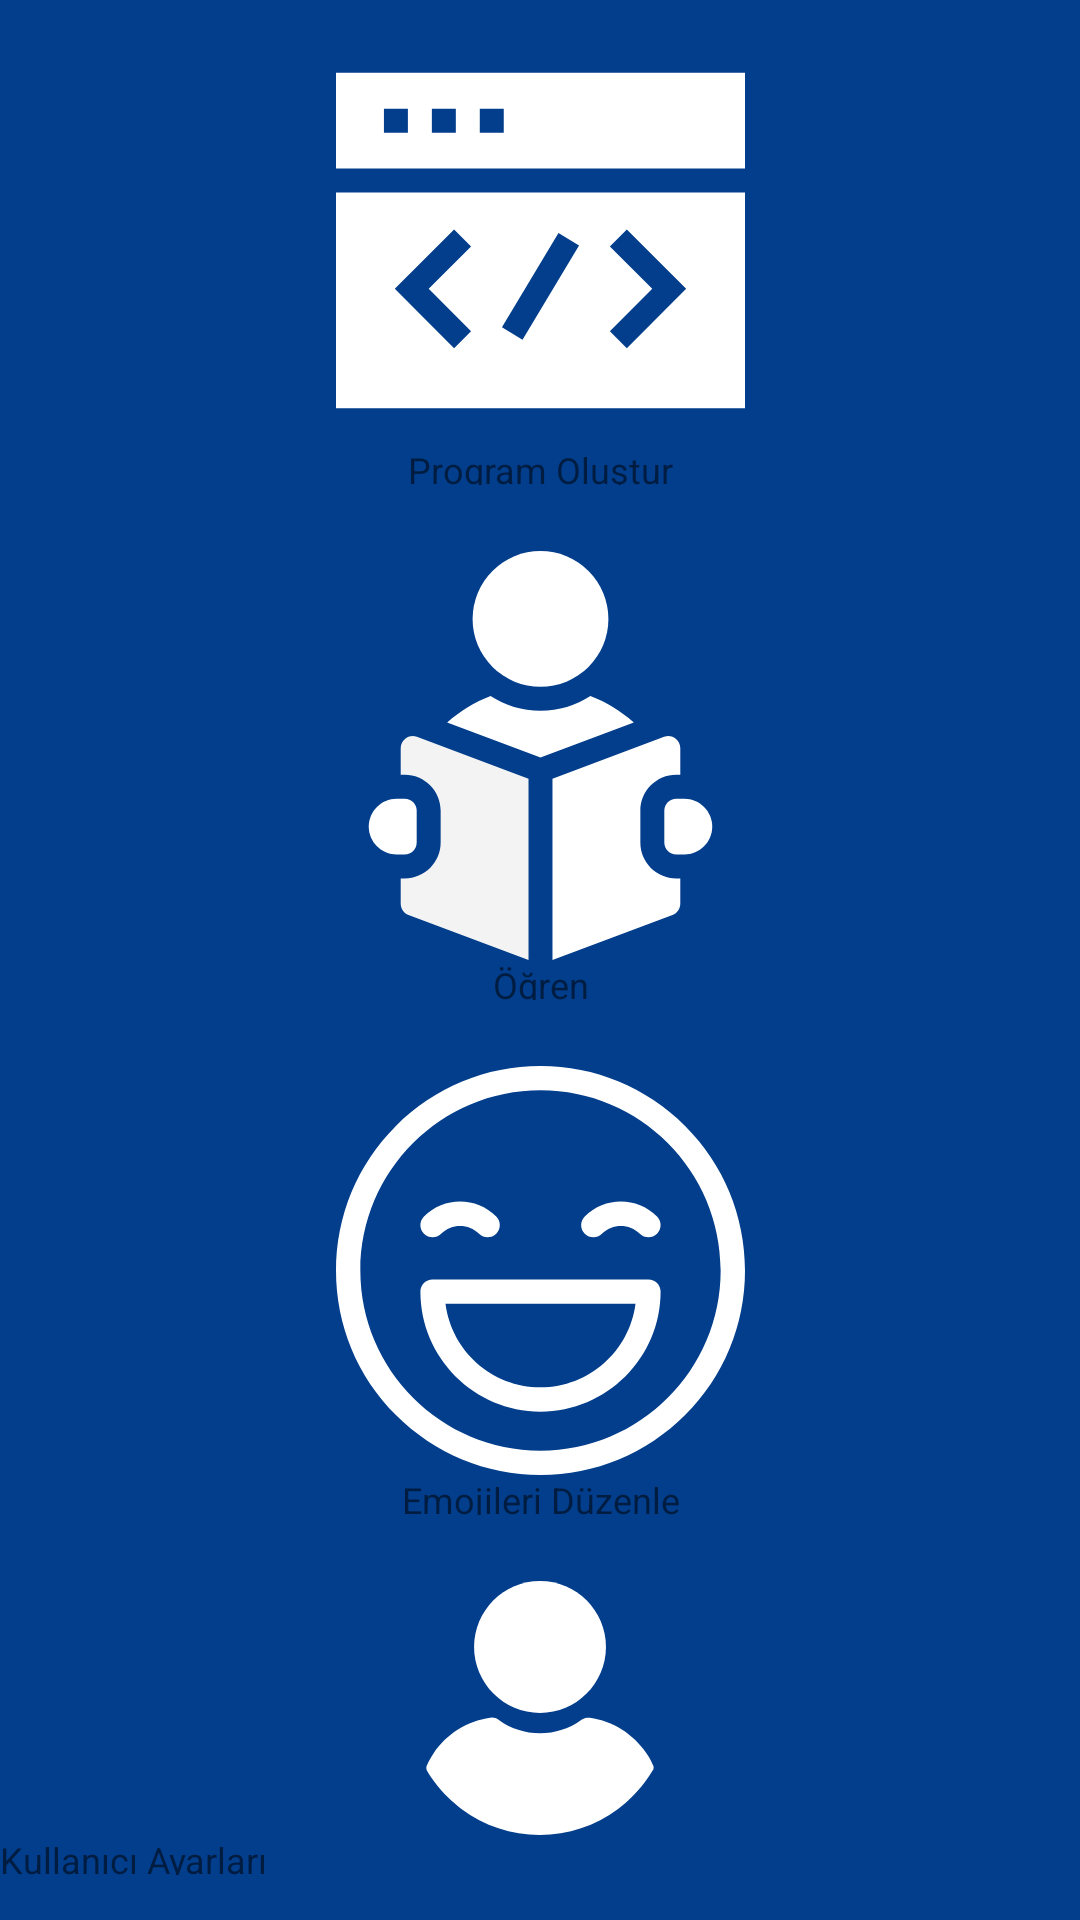

Icons on this 1080x1920 Android screen, each with its box as (x1, y1, x2, y2):
user: (426, 1581, 654, 1835)
